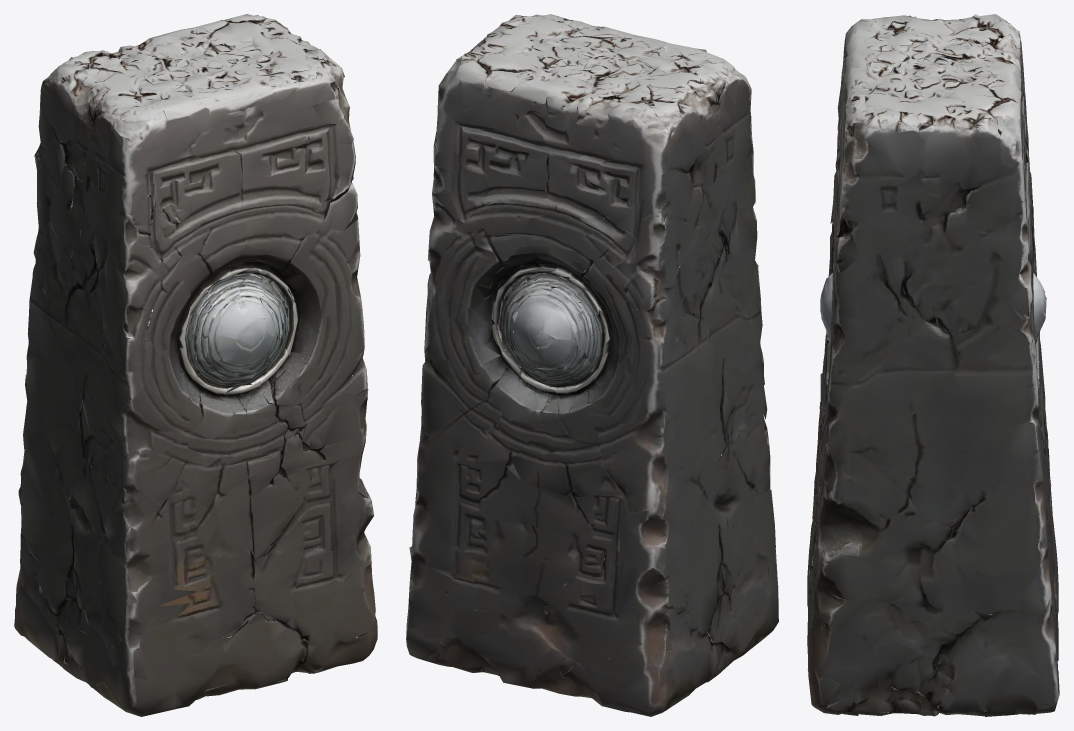
Rendered from Ancient_Stone_Relic_town.glb.
The picture shows the model from 3 angles, left to right: view 1: azimuth 30°, elevation 25°; view 2: azimuth 150°, elevation 25°; view 3: azimuth 270°, elevation 25°; orthographic projection.
Visible parts, largest first — view 1: Ancient_Stone_Relic; view 2: Ancient_Stone_Relic; view 3: Ancient_Stone_Relic.
Part boxes in pixels (<box>): Ancient_Stone_Relic: <box>14,14,377,716</box>; Ancient_Stone_Relic: <box>406,14,778,716</box>; Ancient_Stone_Relic: <box>807,14,1059,716</box>.
Size of the model in its own units: 0.8866 by 1.91 by 0.736.
Materials: 1 (1 with a texture image).
